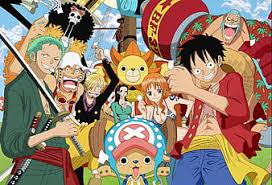chopper: (87, 115, 177, 180)
luffy: (177, 33, 227, 84)
